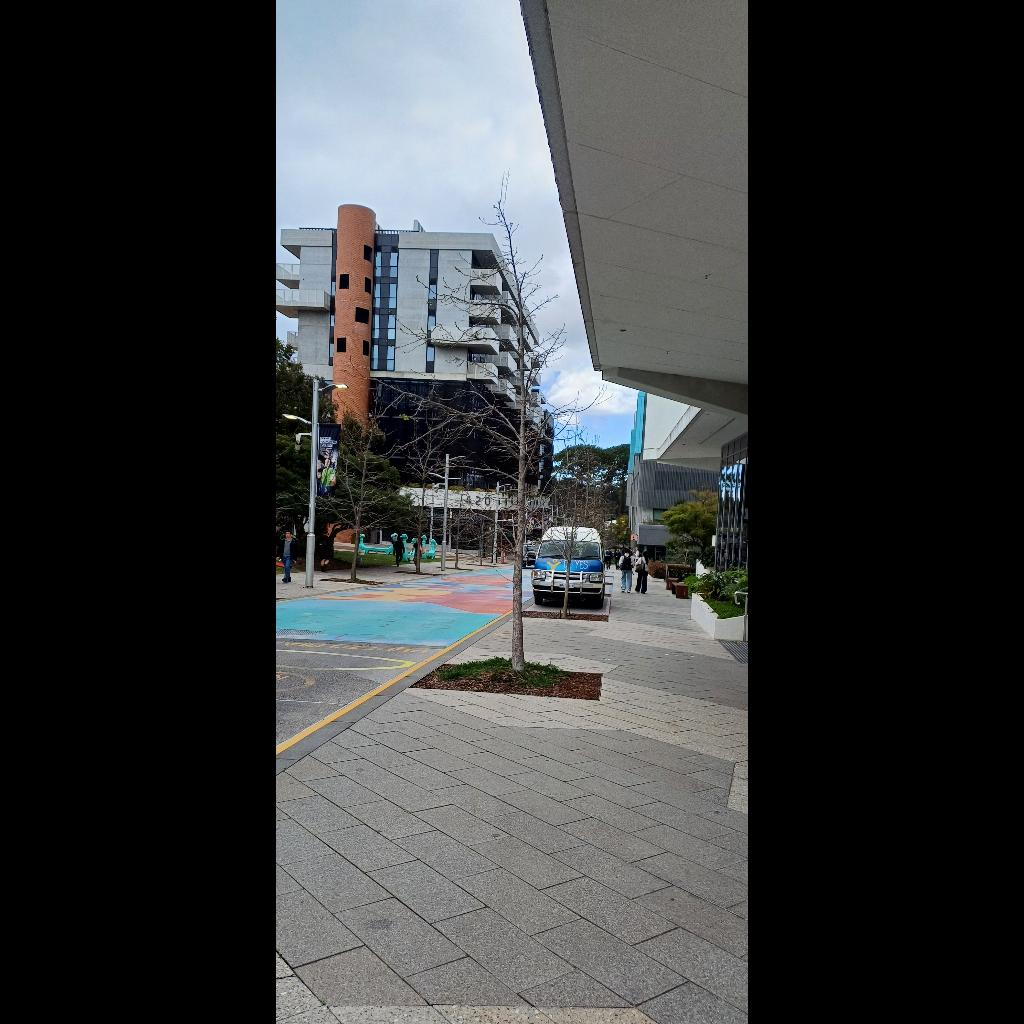BuildingCodes: (463, 491, 495, 509)
